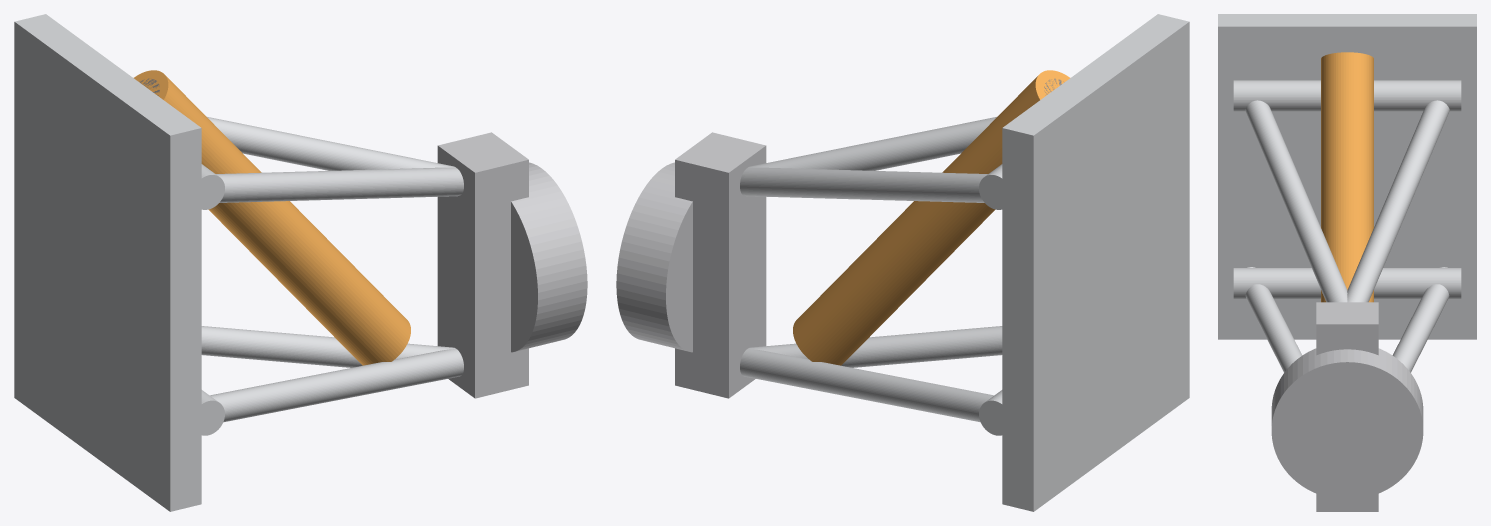
The model's file is rover17_suspension_arm_m_susp_down.glb.
3 views of the same model, side by side, from view 1: azimuth 30°, elevation 25°; view 2: azimuth 150°, elevation 25°; view 3: azimuth 270°, elevation 25° (orthographic). The views are drawn at different scales.
Parts seen in each view (by area): view 1: mount_plate, arm_upright, spring, arm_upper, arm_lower; view 2: mount_plate, arm_upright, spring, arm_upper, arm_lower; view 3: mount_plate, arm_upright, arm_upper, spring, arm_lower.
Part boxes in pixels (x1,y1,x2,y2): mount_plate: (14, 14, 201, 511); arm_upright: (437, 132, 587, 398); spring: (134, 70, 410, 365); arm_upper: (201, 117, 463, 209); arm_lower: (201, 326, 463, 435); mount_plate: (1002, 14, 1189, 511); arm_upright: (616, 132, 766, 398); spring: (793, 70, 1069, 365); arm_upper: (740, 117, 1002, 209); arm_lower: (740, 326, 1002, 435); mount_plate: (1218, 14, 1476, 339); arm_upright: (1271, 302, 1423, 511); arm_upper: (1233, 80, 1461, 302); spring: (1321, 52, 1373, 302); arm_lower: (1233, 267, 1461, 372).
Bounding box in the file's own units: 0.5 × 0.42 × 0.3.
